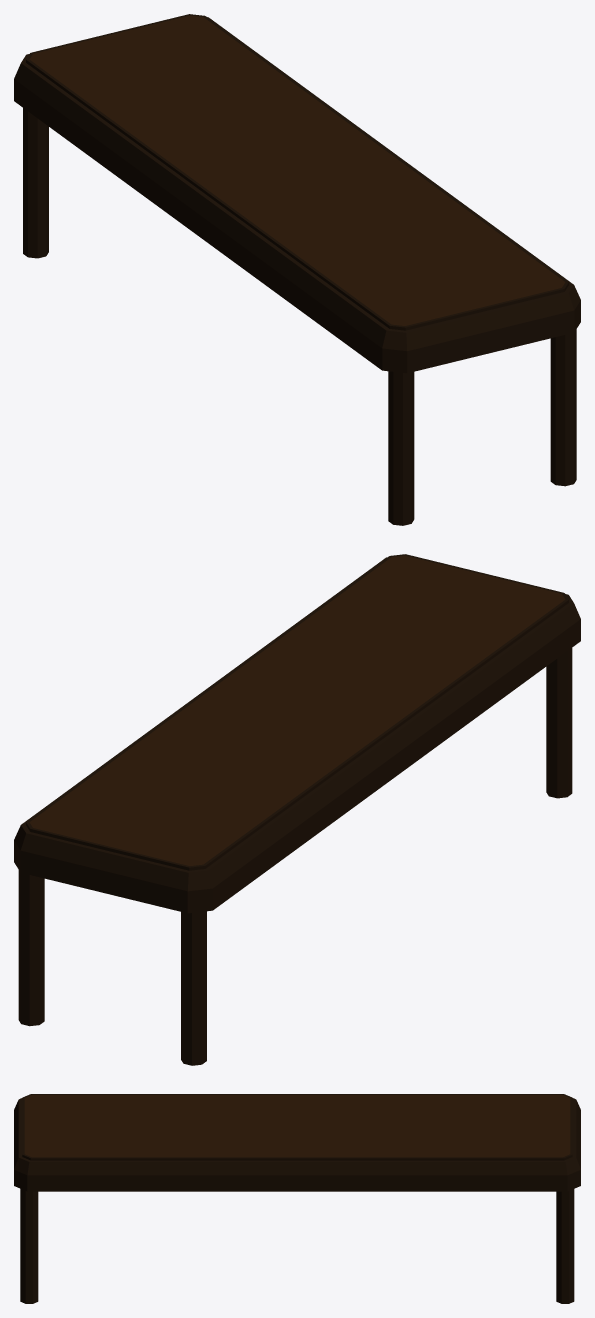
Rendered from Bench.obj.
3 views of the same model, one above another, from view 1: azimuth 30°, elevation 25°; view 2: azimuth 150°, elevation 25°; view 3: azimuth 270°, elevation 25° (orthographic). The views are drawn at different scales.
Parts seen in each view (by area): view 1: Cube.003_Cube.005; view 2: Cube.003_Cube.005; view 3: Cube.003_Cube.005.
Part boxes in pixels (x1,y1,x2,y2): Cube.003_Cube.005: [14, 14, 580, 525]; Cube.003_Cube.005: [14, 554, 580, 1065]; Cube.003_Cube.005: [14, 1094, 580, 1303].
Size of the model in its own units: 1.29 by 1.21 by 4.33.
